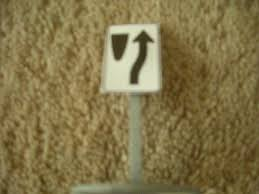keepRight: (106, 23, 163, 94)
